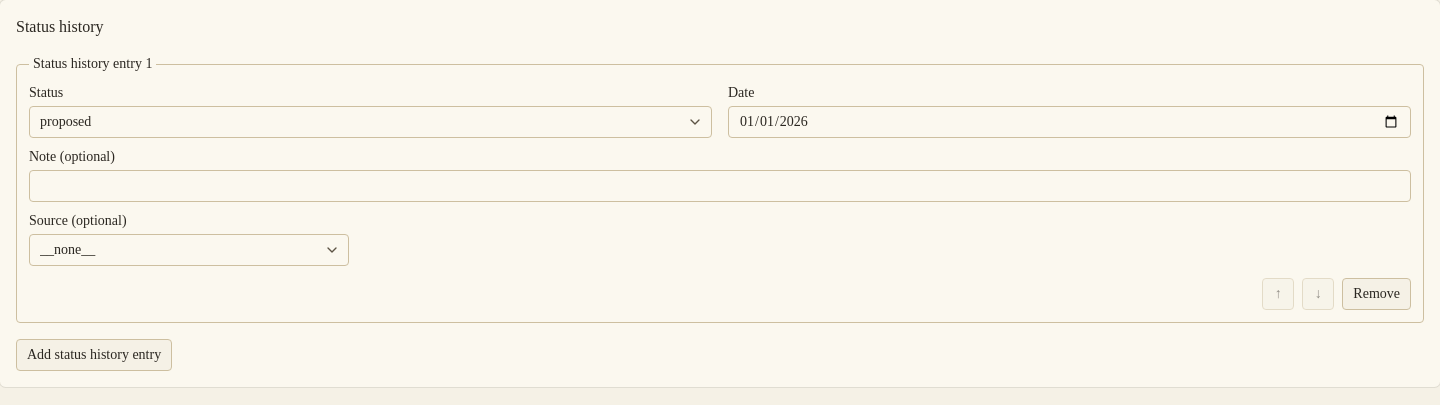
Test: FacilityStatusHistorySection › focus restoration after Remove (§1f) › moves focus to the Add button when the only remaining row is removed
Click the button with aria-label "remove status history entry 1": (1377,294) x1=1342 y1=278 x2=1411 y2=310
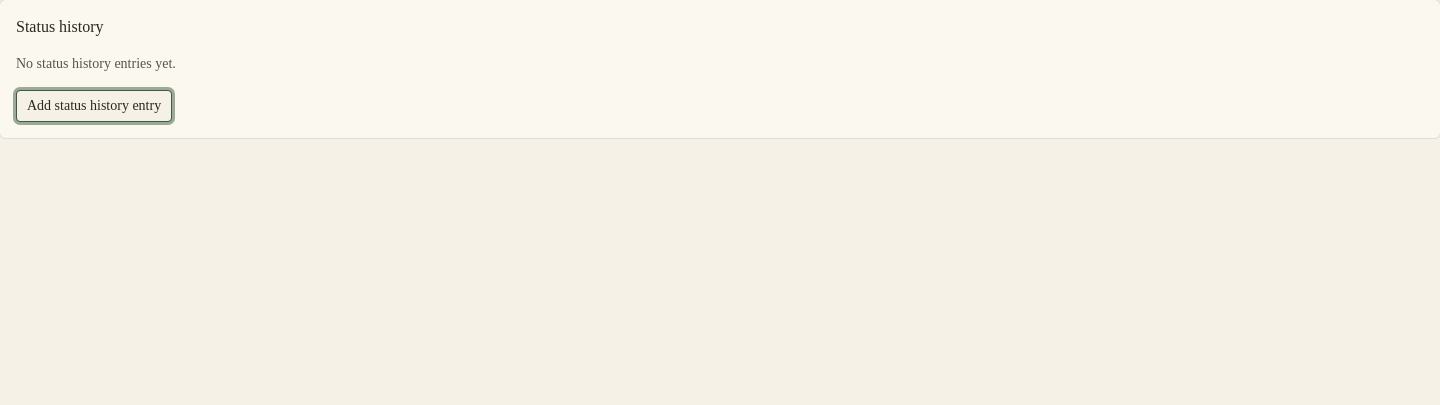
Check: the text "No status history entries yet." is shown, box x1=16 y1=56 x2=176 y2=71
